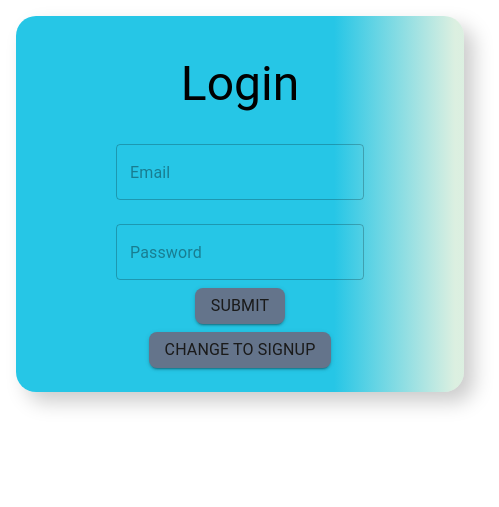
Scenario: Auth › toggles between signup and login
This screenshot has width=499, height=507.
What coordinates should you click on to do the following:
click the button "Change to Signup"
I would click on:
 (240, 350)
Its box is top-left (149, 332), bottom-right (331, 368).
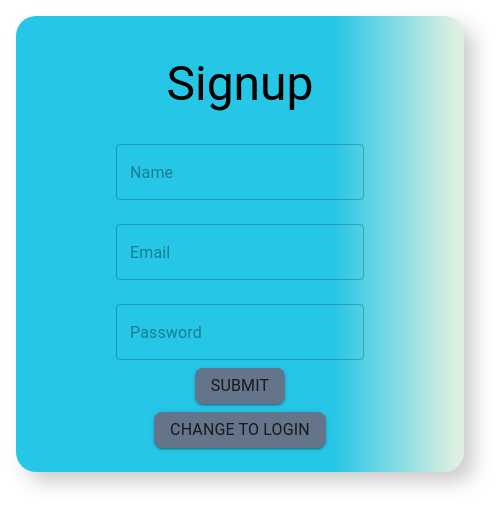
Now the heading "Signup" is shown, box top-left (166, 55), bottom-right (314, 112)
Now the text "Change to Login" is shown, box top-left (170, 418), bottom-right (310, 442)
What coordinates should you click on to do the following:
click the button "Change to Login"
I would click on:
 (240, 430)
Its box is top-left (154, 412), bottom-right (326, 448).
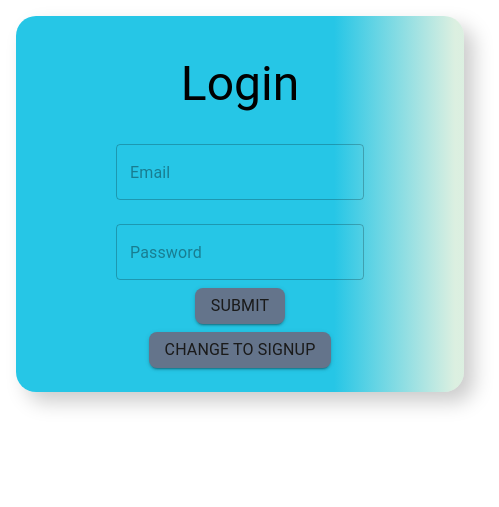
Now the heading "Login" is shown, box top-left (181, 55), bottom-right (299, 112)
Now the text "Change to Signup" is shown, box top-left (165, 338), bottom-right (315, 362)
